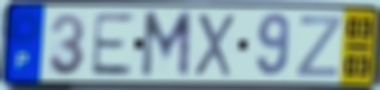3: (47, 11, 88, 79)
9: (254, 11, 292, 82)
E: (87, 11, 136, 79)
M: (138, 9, 195, 81)
X: (192, 12, 237, 79)
Z: (293, 14, 344, 80)
